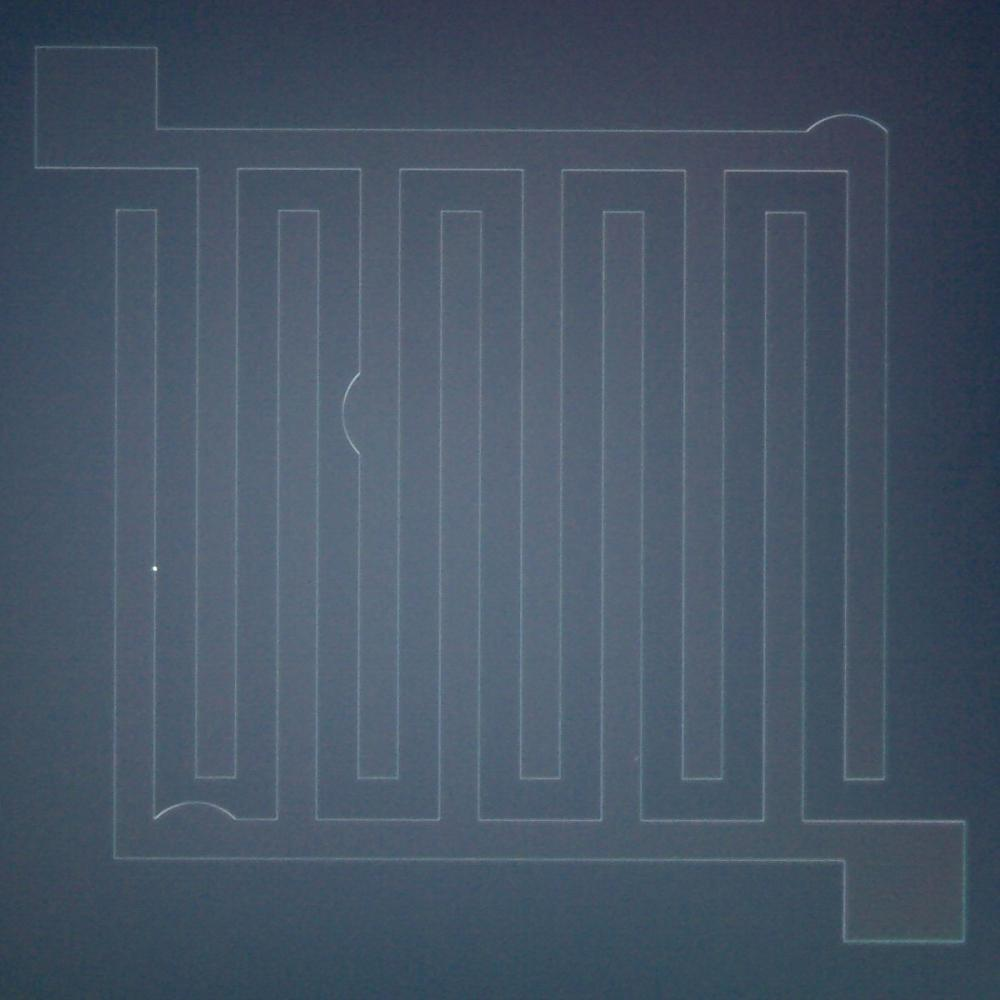curve circuit: (140, 790, 250, 833), (330, 360, 372, 470), (802, 102, 889, 144)
dot: (144, 558, 168, 586)
